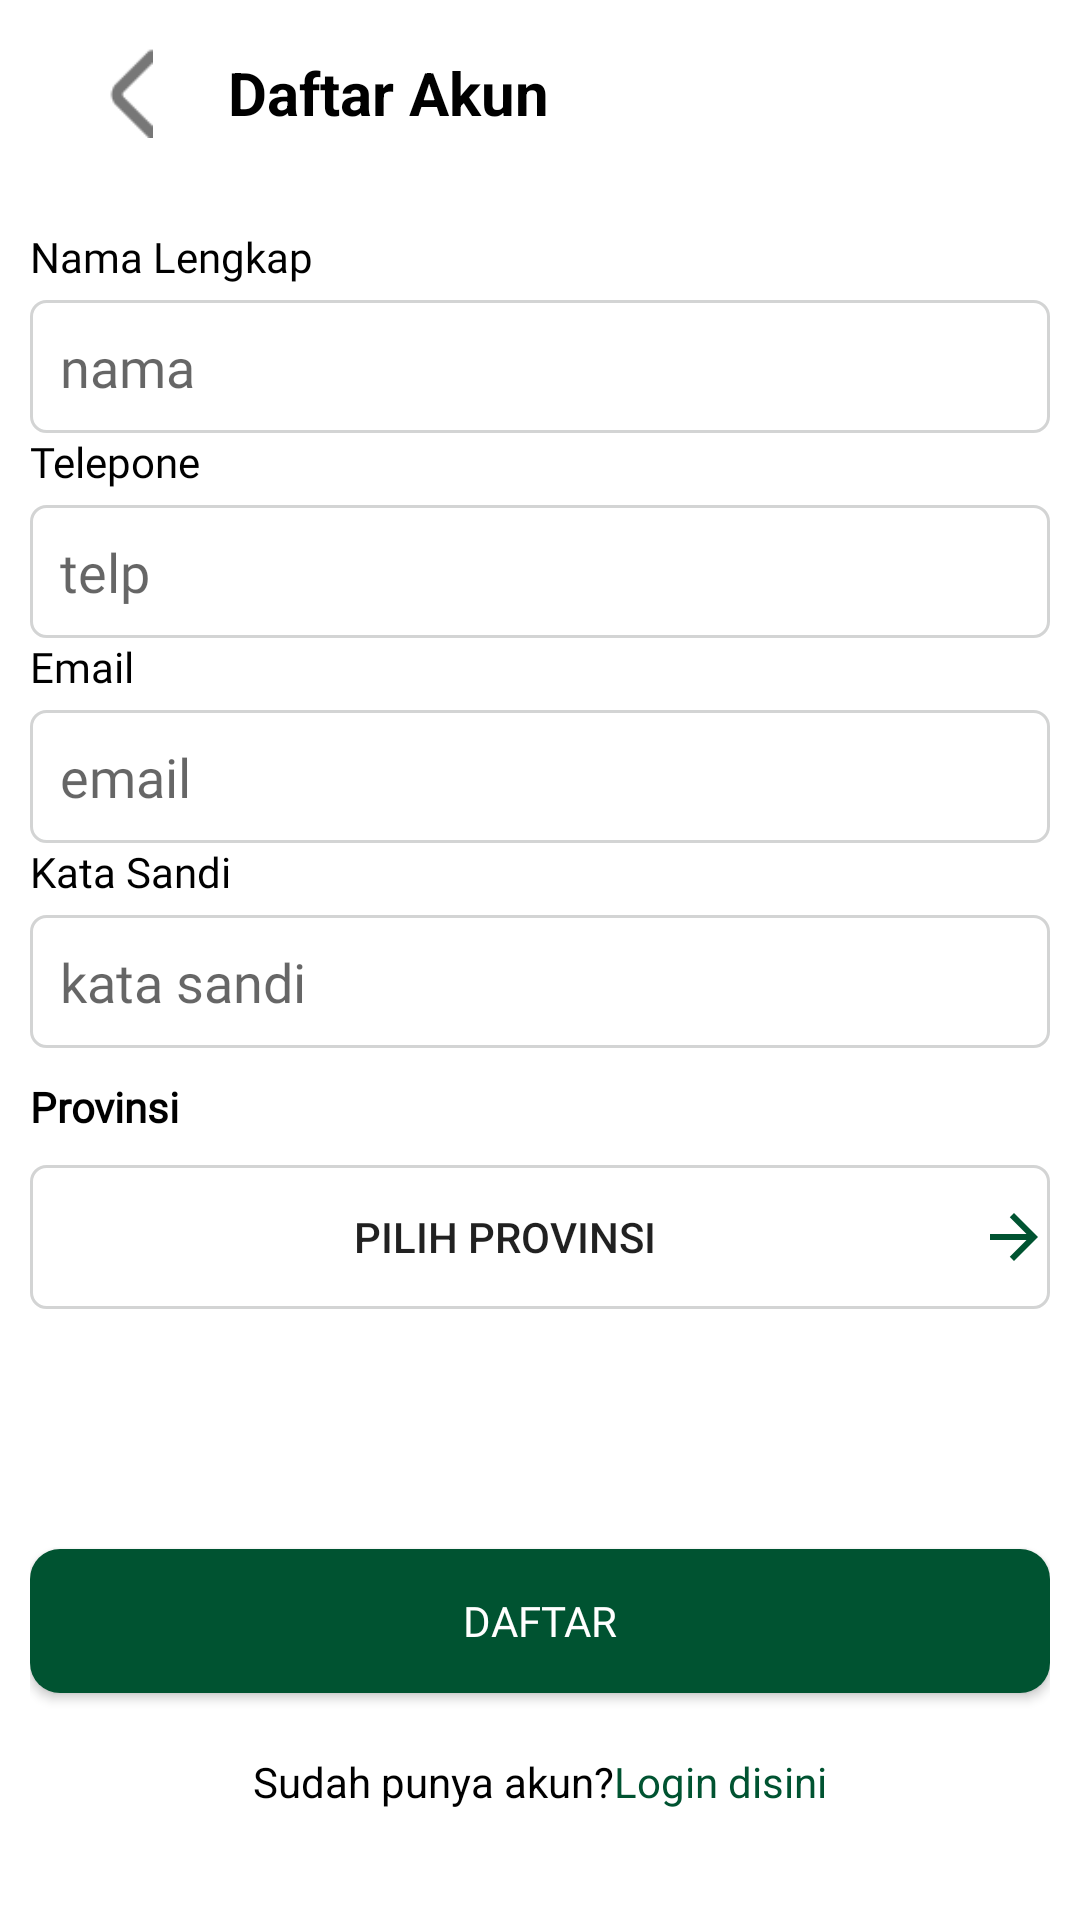

Screen size 1080px x 1920px. Icon name, then its center in pixels as [x,y]:
back: [131,93]
